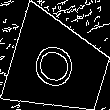O_E: (31, 38, 86, 96)
